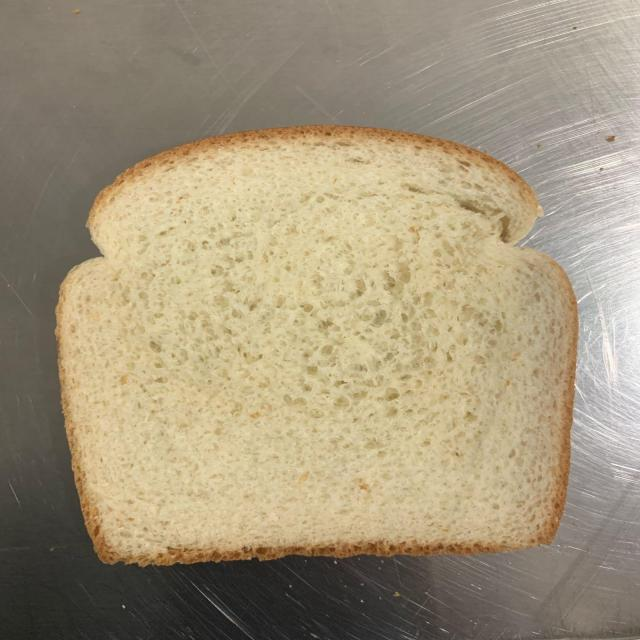pan: (56, 124, 577, 564)
